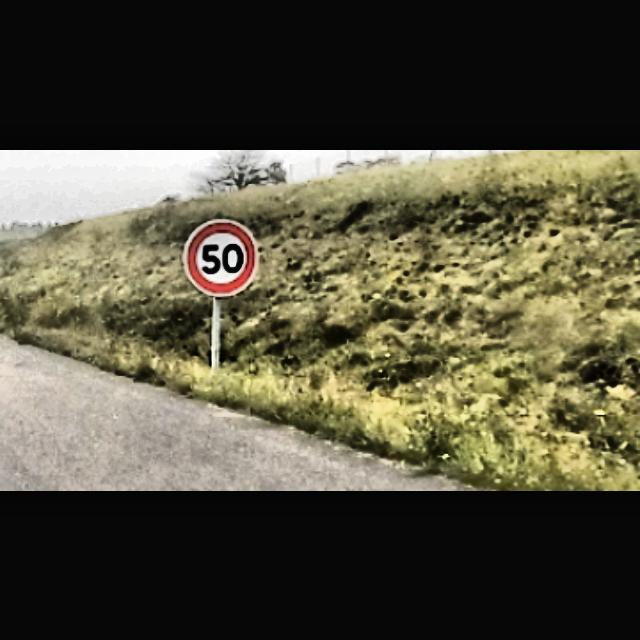speed_50: (184, 218, 258, 296)
